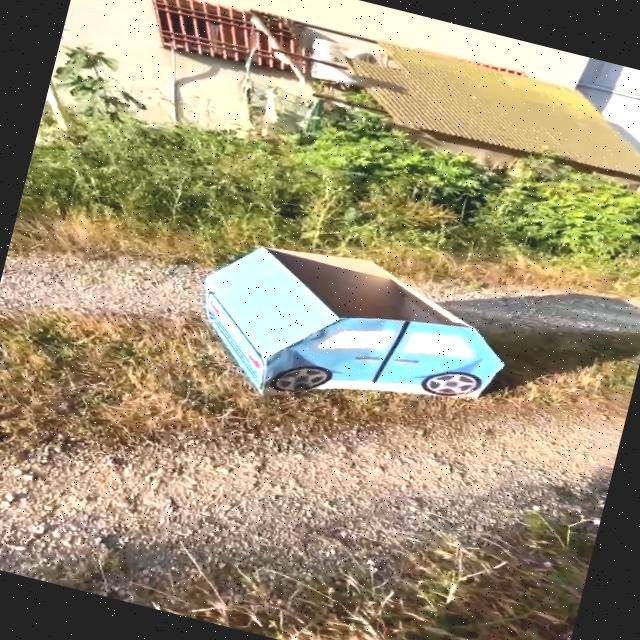blue_car: (145, 194, 620, 490)
